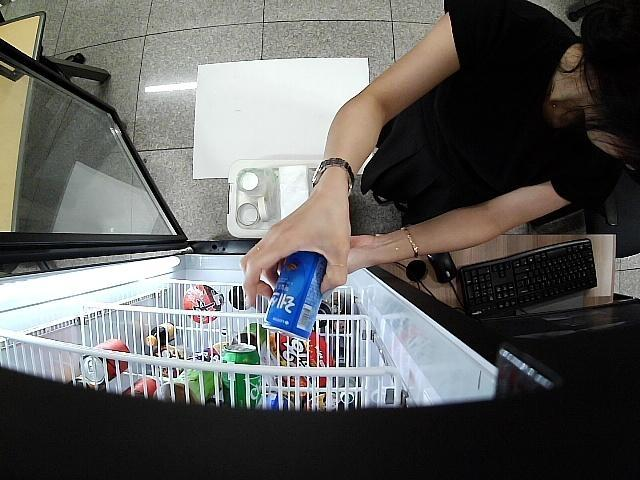15_letsbe: (262, 252, 326, 344)
